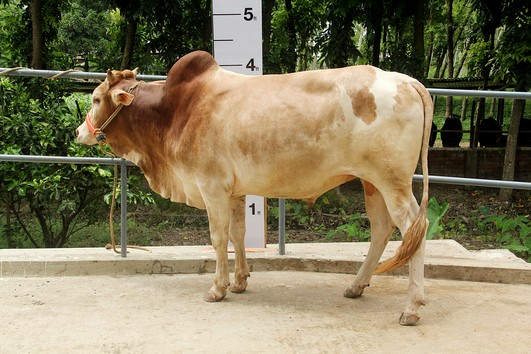cow: (69, 49, 444, 329)
